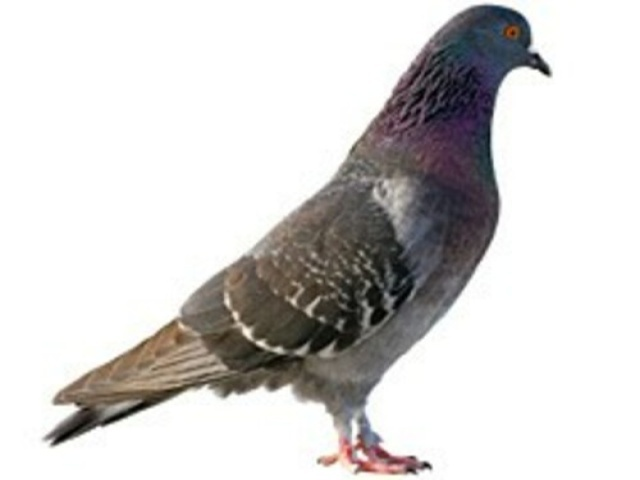Pigeon: (39, 1, 557, 480)
